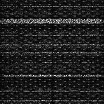lte: (1, 18, 104, 23), (1, 73, 104, 77), (1, 50, 104, 54), (1, 33, 104, 37), (1, 98, 104, 102), (1, 4, 104, 8)
